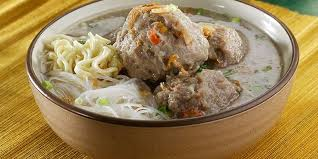bakso: (115, 6, 255, 107)
